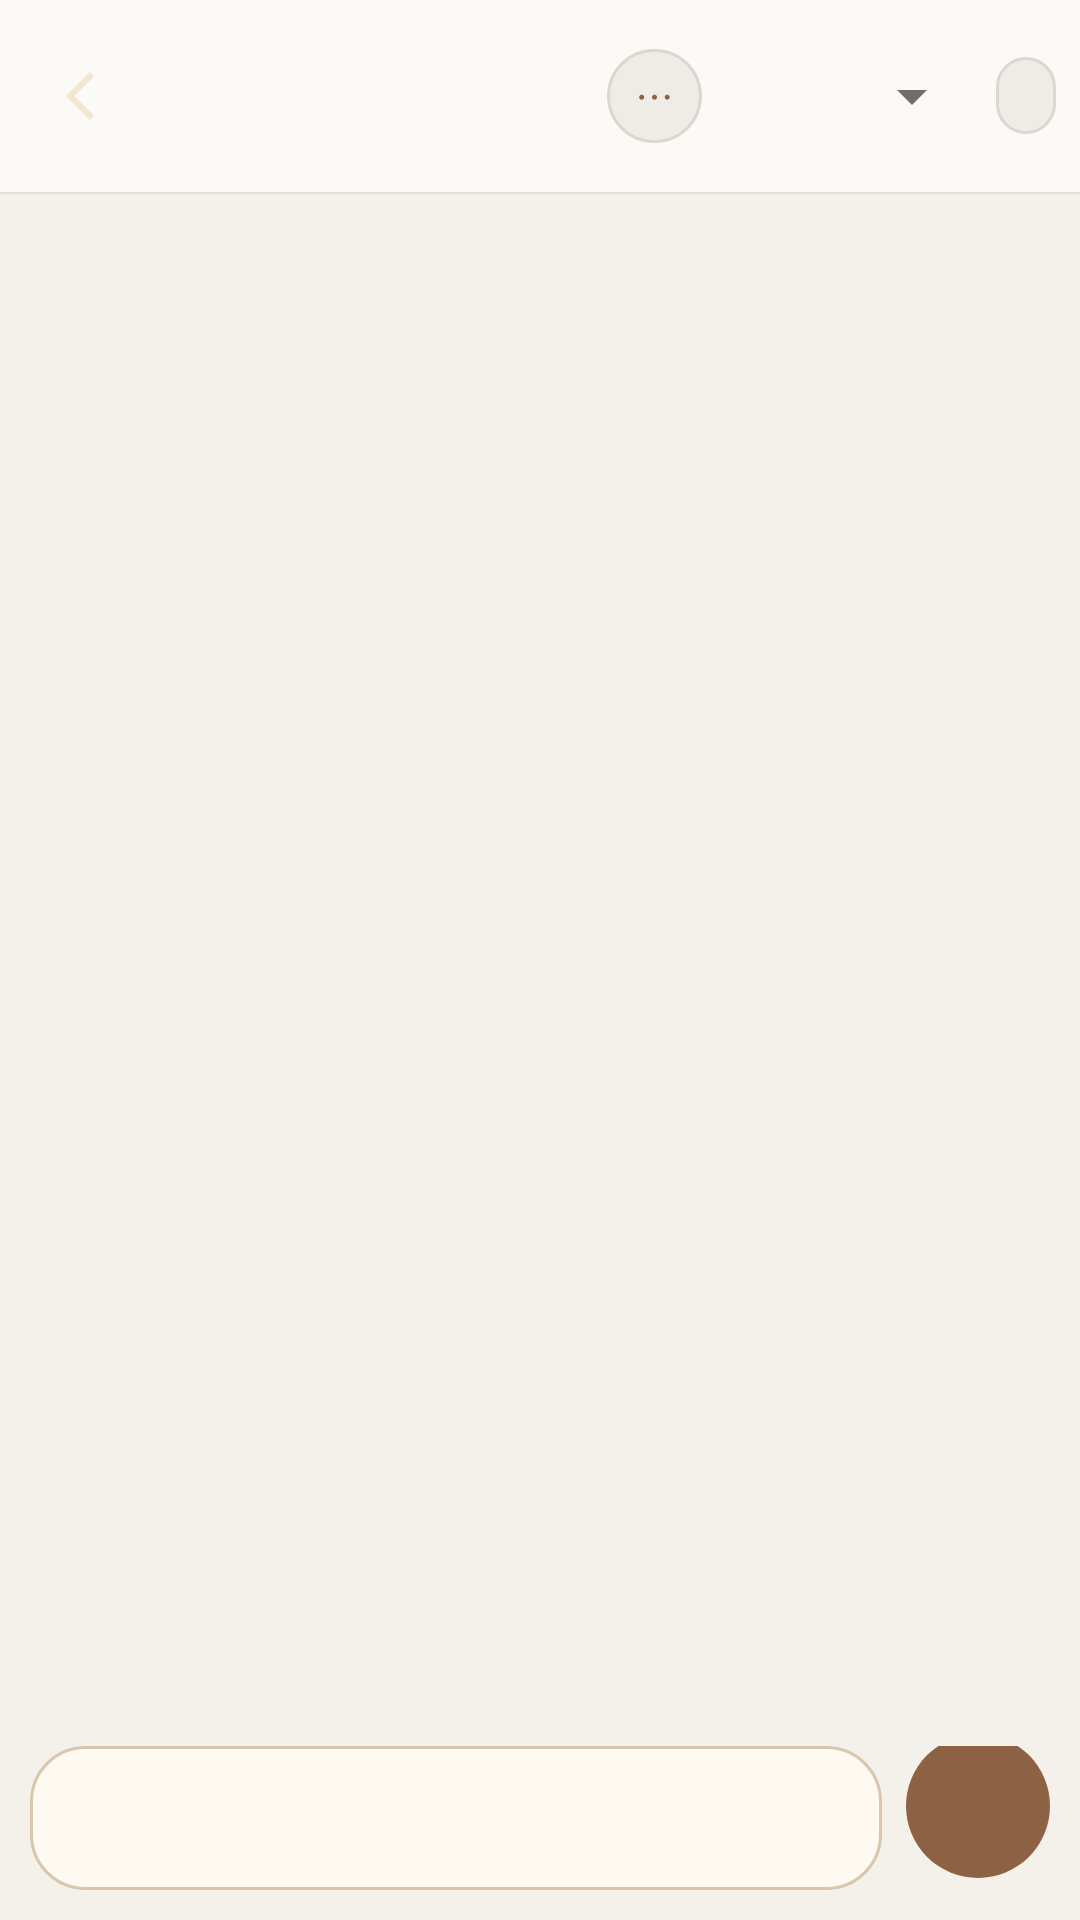

Locate icon controls on the screen. Image size 1080px×1920px, boxes as rect(x1, y1, x2, y2).
back: rect(67, 73, 94, 119)
